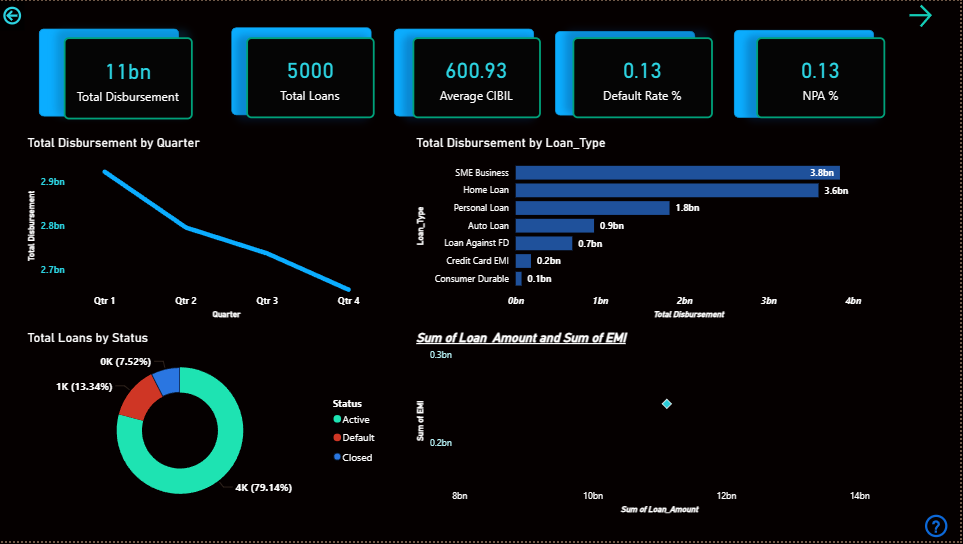

The dashboard page shown, as its layout file describes it:
{"tool":"powerbi","page":{"name":"Portfolio Overview","canvas":[1280,720],"ordinal":1},"visuals":[{"type":"shape","box":[977.9,38.4,187.2,117.4],"z":0},{"type":"shape","box":[740.7,39.5,187.2,112.8],"z":1000},{"type":"shape","box":[524.4,36,187.2,117.4],"z":2000},{"type":"shape","box":[308.1,34.9,187.2,117.4],"z":3000},{"type":"shape","box":[51.2,36,187.2,117.4],"z":4000},{"type":"actionButton","box":[0,0,32.6,39.5],"z":5000},{"type":"card","fields":{"Values":["Customer_Loans.Total Disbursement"]},"box":[84.9,47.7,172.1,109.3],"z":6000},{"type":"card","fields":{"Values":["Customer_Loans.Total Loans"]},"box":[327.9,47.7,170.9,108.1],"z":7000},{"type":"card","fields":{"Values":["Customer_Loans.Average CIBIL"]},"box":[550,47.7,170.9,108.1],"z":8000},{"type":"card","fields":{"Values":["Customer_Loans.Default Rate %"]},"box":[764,47.7,187.2,108.1],"z":9000},{"type":"card","fields":{"Values":["Customer_Loans.NPA %"]},"box":[1008.1,48.8,172.1,108.1],"z":10000},{"type":"lineChart","fields":{"Y":["Customer_Loans.Total Disbursement"],"Category":["Customer_Loans.Last_Payment_Date.Variation.Date Hierarchy.Quarter"]},"box":[31.7,178.3,481.7,250],"z":11000},{"type":"clusteredBarChart","fields":{"Category":["Customer_Loans.Loan_Type"],"Y":["Customer_Loans.Total Disbursement"]},"box":[550,178.3,615,250],"z":12000},{"type":"donutChart","fields":{"Category":["Customer_Loans.Status"],"Y":["Customer_Loans.Total Loans"]},"box":[32,439,482,250],"z":13000},{"type":"scatterChart","fields":{"X":["Sum(Customer_Loans.Loan_Amount)"],"Y":["Sum(Customer_Loans.EMI)"]},"box":[550,439,615,250],"z":14000},{"type":"actionButton","box":[1206.9,0,73.6,39.9],"z":15000},{"type":"actionButton","box":[1228.1,680.7,52.4,39.9],"z":21000}]}

Visuals, with their boxes in screenshot pixels (x1, y1, x2, y2), scaled from the page's 1280x720 canvas onto the 963x544 screenshot:
shape: (left=736, top=29, right=877, bottom=118)
shape: (left=557, top=30, right=698, bottom=115)
shape: (left=395, top=27, right=535, bottom=116)
shape: (left=232, top=26, right=373, bottom=115)
shape: (left=39, top=27, right=179, bottom=116)
actionButton: (left=0, top=0, right=25, bottom=30)
card - Customer_Loans.Total Disbursement: (left=64, top=36, right=193, bottom=119)
card - Customer_Loans.Total Loans: (left=247, top=36, right=375, bottom=118)
card - Customer_Loans.Average CIBIL: (left=414, top=36, right=542, bottom=118)
card - Customer_Loans.Default Rate %: (left=575, top=36, right=716, bottom=118)
card - Customer_Loans.NPA %: (left=758, top=37, right=888, bottom=119)
lineChart - Customer_Loans.Total Disbursement x Customer_Loans.Last_Payment_Date.Variation.Date Hierarchy.Quarter: (left=24, top=135, right=386, bottom=324)
clusteredBarChart - Customer_Loans.Loan_Type x Customer_Loans.Total Disbursement: (left=414, top=135, right=876, bottom=324)
donutChart - Customer_Loans.Status x Customer_Loans.Total Loans: (left=24, top=332, right=387, bottom=521)
scatterChart - Sum(Customer_Loans.Loan_Amount) x Sum(Customer_Loans.EMI): (left=414, top=332, right=876, bottom=521)
actionButton: (left=908, top=0, right=962, bottom=30)
actionButton: (left=924, top=514, right=962, bottom=543)
